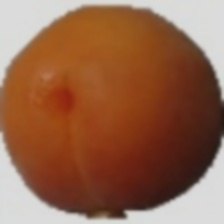apricot: (27, 22, 216, 172)
